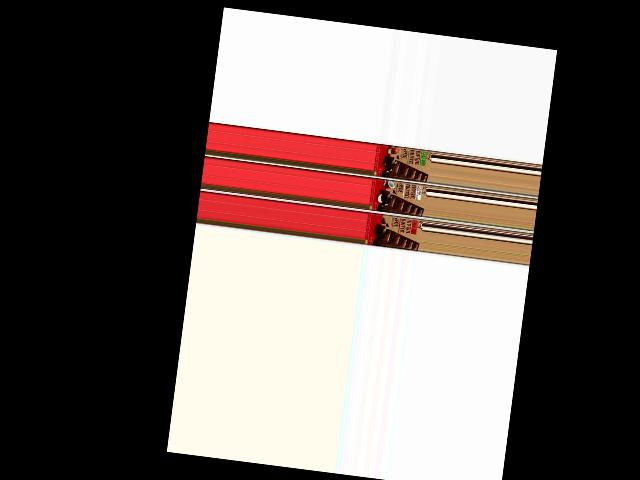chocolate: (372, 142, 432, 182)
